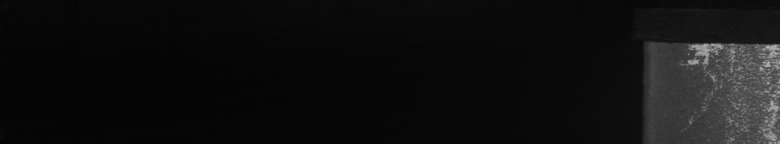kb: (647, 0, 776, 144)
